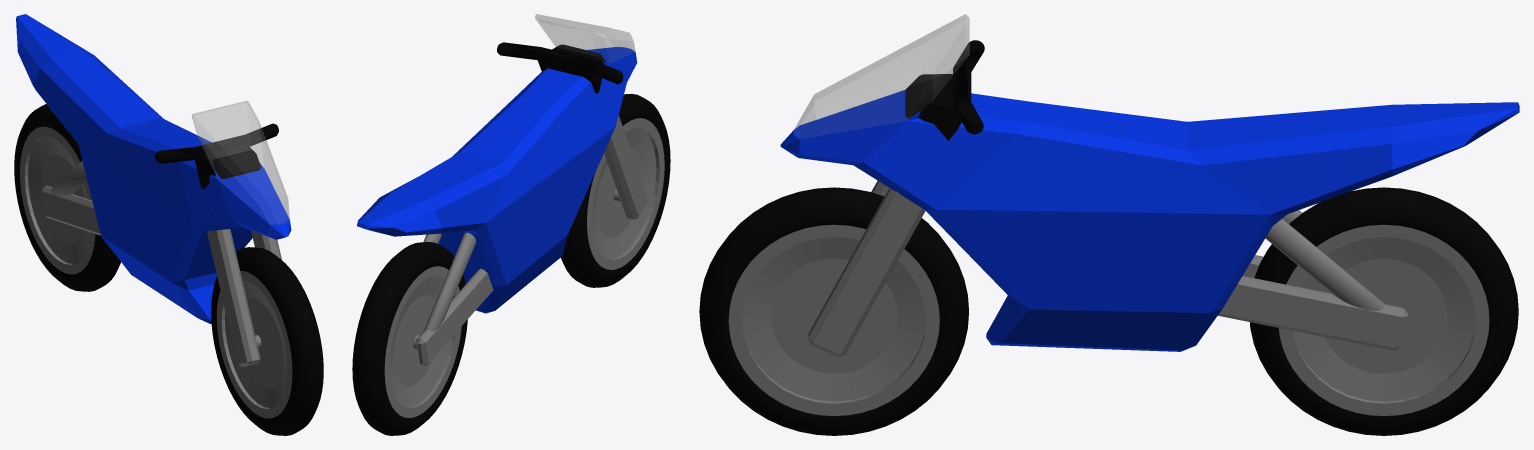
File: Bike.fbx
3 views of the same model, side by side, from view 1: azimuth 30°, elevation 25°; view 2: azimuth 150°, elevation 25°; view 3: azimuth 270°, elevation 25° (orthographic). The views are drawn at different scales.
Visible parts, largest first — view 1: Body, Tire., Tire, Spring, HandleAxis; view 2: Body, Tire, Tire., Spring, HandleAxis; view 3: Body, Tire., Tire, Spring, HandleAxis.
Part boxes in pixels (x1,y1,x2,y2): Body: (16,14,291,323); Tire.: (211,247,323,435); Tire: (14,104,120,291); Spring: (41,161,281,366); HandleAxis: (155,123,278,188); Body: (357,14,637,313); Tire: (352,242,467,435); Tire.: (560,94,670,287); Spring: (413,96,648,365); HandleAxis: (497,42,623,93); Body: (780,14,1519,351); Tire.: (699,187,968,435); Tire: (1250,187,1518,435); Spring: (808,180,1408,356); HandleAxis: (905,40,984,140).
Bounding box in the file's own units: 0.5455 × 1.26 × 2.34.
